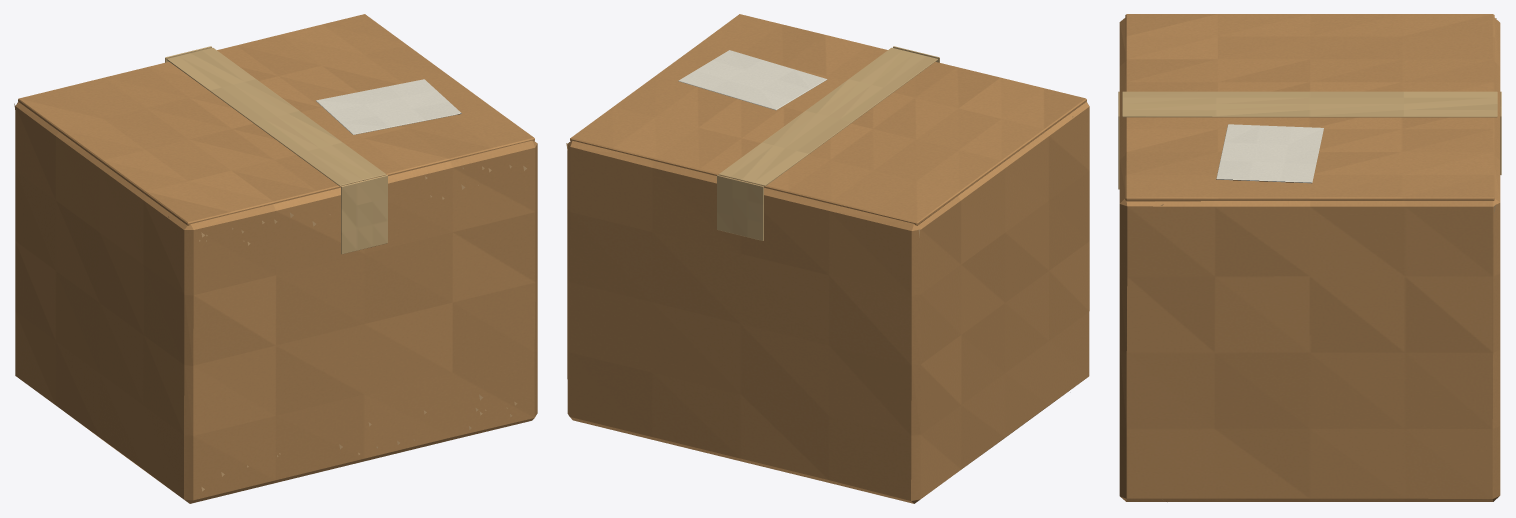
Rendered from parcel.fbx.
The picture shows the model from 3 angles, left to right: view 1: azimuth 30°, elevation 25°; view 2: azimuth 150°, elevation 25°; view 3: azimuth 270°, elevation 25°; orthographic projection. The views are drawn at different scales.
Parts seen in each view (by area): view 1: EXPORT_parcel; view 2: EXPORT_parcel; view 3: EXPORT_parcel.
Boxes of the visible parts, box(x1,y1,x2,y2) form: EXPORT_parcel: box(14, 14, 537, 503); EXPORT_parcel: box(566, 14, 1089, 503); EXPORT_parcel: box(1118, 14, 1501, 501).
Size of the model in its own units: 0.5 by 0.3841 by 0.4331.
Materials: 1 (1 with a texture image).
